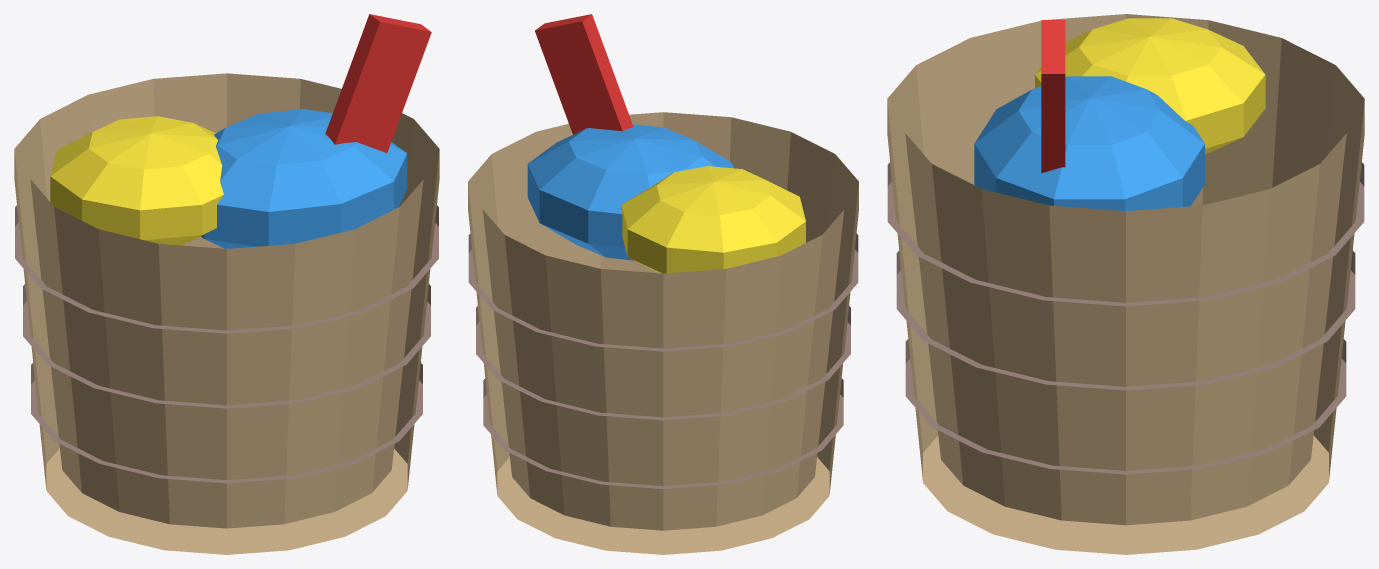
Rendered from tvattkorg.glb.
The picture shows the model from 3 angles, left to right: view 1: azimuth 30°, elevation 25°; view 2: azimuth 150°, elevation 25°; view 3: azimuth 270°, elevation 25°; orthographic projection. The views are drawn at different scales.
Parts seen in each view (by area): view 1: tvattkorg; view 2: tvattkorg; view 3: tvattkorg.
Boxes of the visible parts, box(x1,y1,x2,y2) form: tvattkorg: box(14, 14, 439, 554); tvattkorg: box(468, 14, 858, 554); tvattkorg: box(887, 14, 1364, 554).
Size of the model in its own units: 0.4 by 0.4654 by 0.3939.
